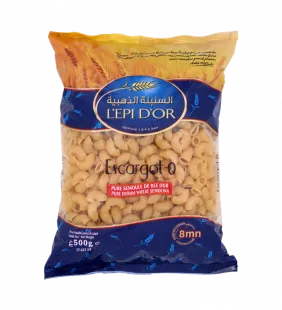L'EPI D'OR: (36, 20, 245, 284)
